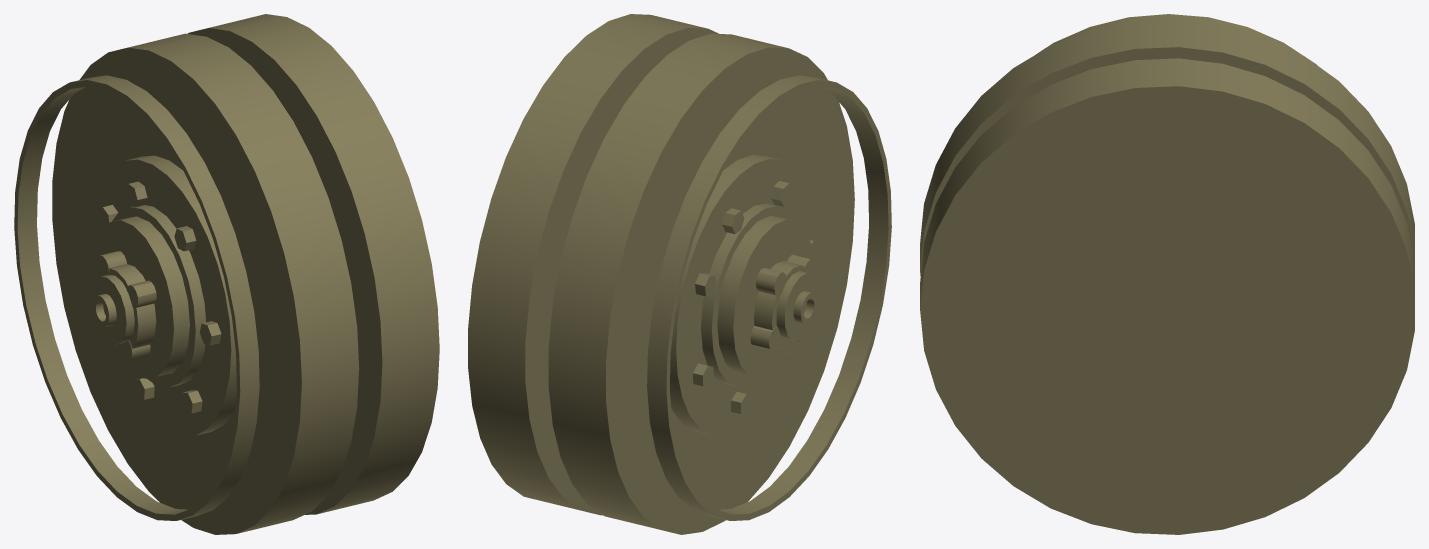
File: caterpillar_circle1.fbx
3 views of the same model, side by side, from view 1: azimuth 30°, elevation 25°; view 2: azimuth 150°, elevation 25°; view 3: azimuth 270°, elevation 25° (orthographic).
Parts seen in each view (by area): view 1: FLACK-RUEDA09; view 2: FLACK-RUEDA09; view 3: FLACK-RUEDA09.
Boxes of the visible parts, x1=… form: FLACK-RUEDA09: x1=14, y1=14, x2=439, y2=534; FLACK-RUEDA09: x1=468, y1=14, x2=891, y2=534; FLACK-RUEDA09: x1=920, y1=14, x2=1414, y2=534.
Size of the model in its own units: 317 by 635 by 634.
